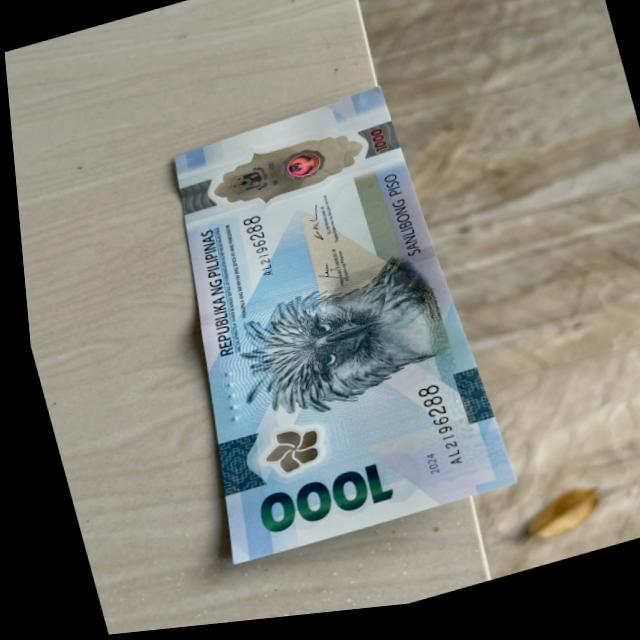clear_window: (189, 127, 378, 225)
eagle: (220, 268, 437, 427)
sampaguita: (246, 422, 326, 485)
